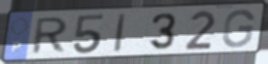2: (184, 9, 218, 52)
3: (147, 12, 179, 51)
5: (72, 13, 107, 55)
G: (221, 8, 256, 49)
I: (112, 12, 128, 54)
R: (29, 15, 71, 56)
